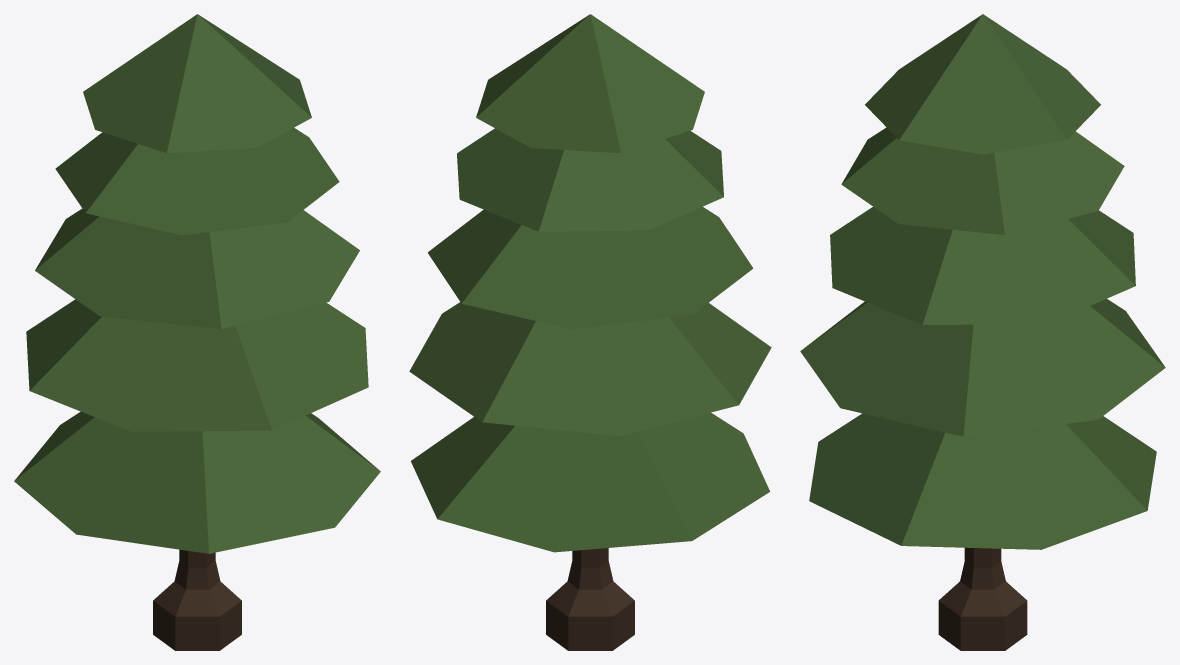
File: Tree_Pine_1.fbx
3 views of the same model, side by side, from view 1: azimuth 30°, elevation 25°; view 2: azimuth 150°, elevation 25°; view 3: azimuth 270°, elevation 25° (orthographic).
Visible parts, largest first — view 1: Tree_Pine_1; view 2: Tree_Pine_1; view 3: Tree_Pine_1.
Part boxes in pixels (x1=…): Tree_Pine_1: x1=14, y1=14, x2=380, y2=650; Tree_Pine_1: x1=409, y1=14, x2=771, y2=650; Tree_Pine_1: x1=800, y1=14, x2=1165, y2=650.
Size of the model in its own units: 1.77 by 3.32 by 1.77.
